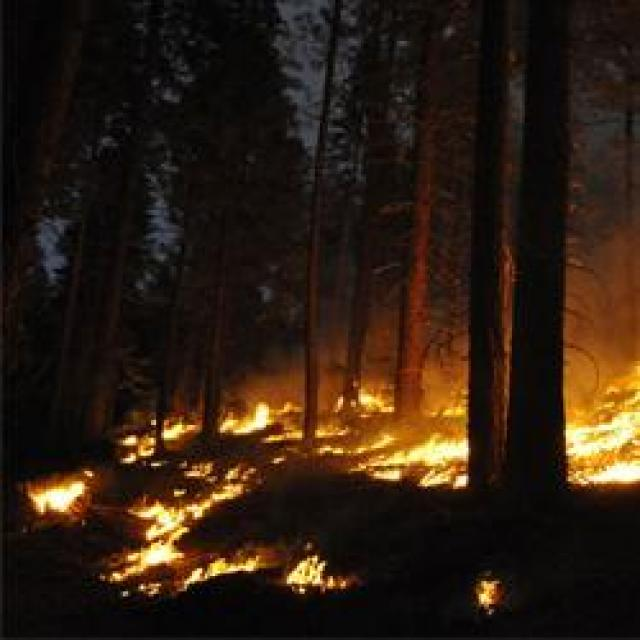fire: (571, 427, 637, 485), (141, 504, 180, 551), (40, 487, 88, 516), (408, 442, 471, 462), (227, 404, 272, 432), (341, 390, 405, 409)
smoke: (570, 267, 640, 364), (323, 322, 457, 372)
